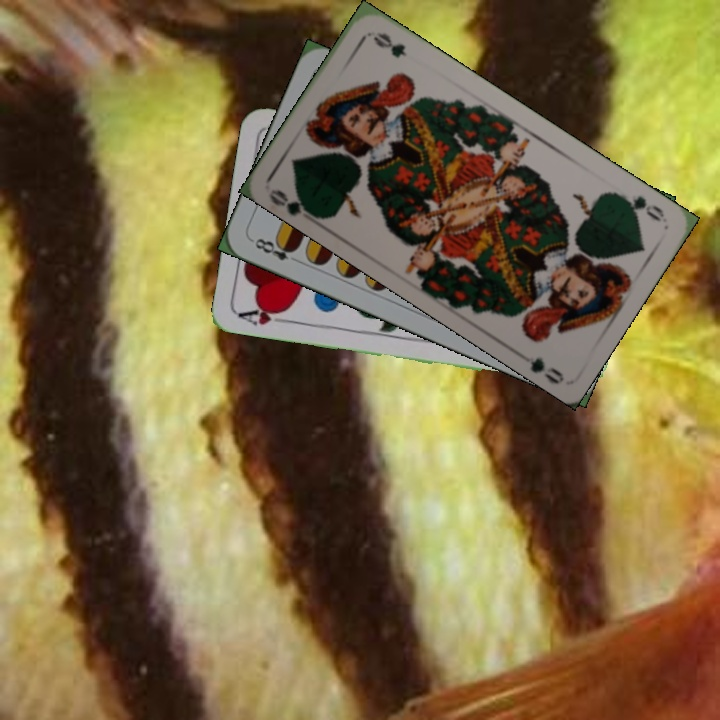E8: (248, 233, 303, 266)
GO: (266, 185, 322, 222), (613, 190, 667, 225)
HA: (235, 301, 295, 328)
